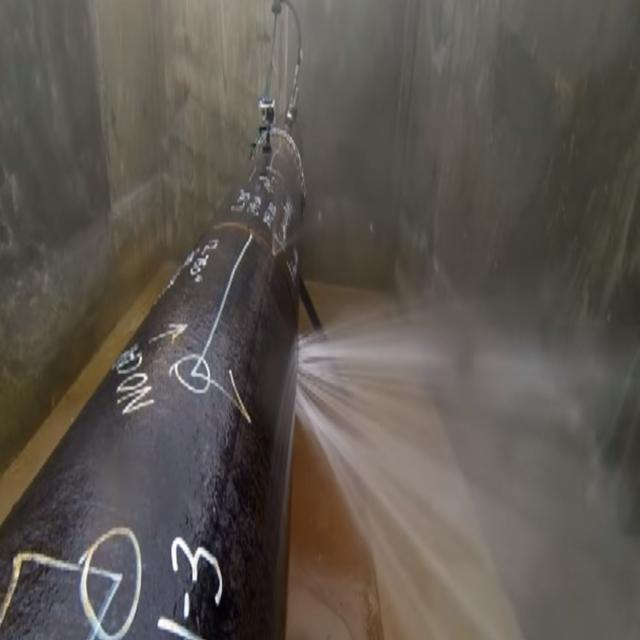leak: (296, 302, 640, 636)
